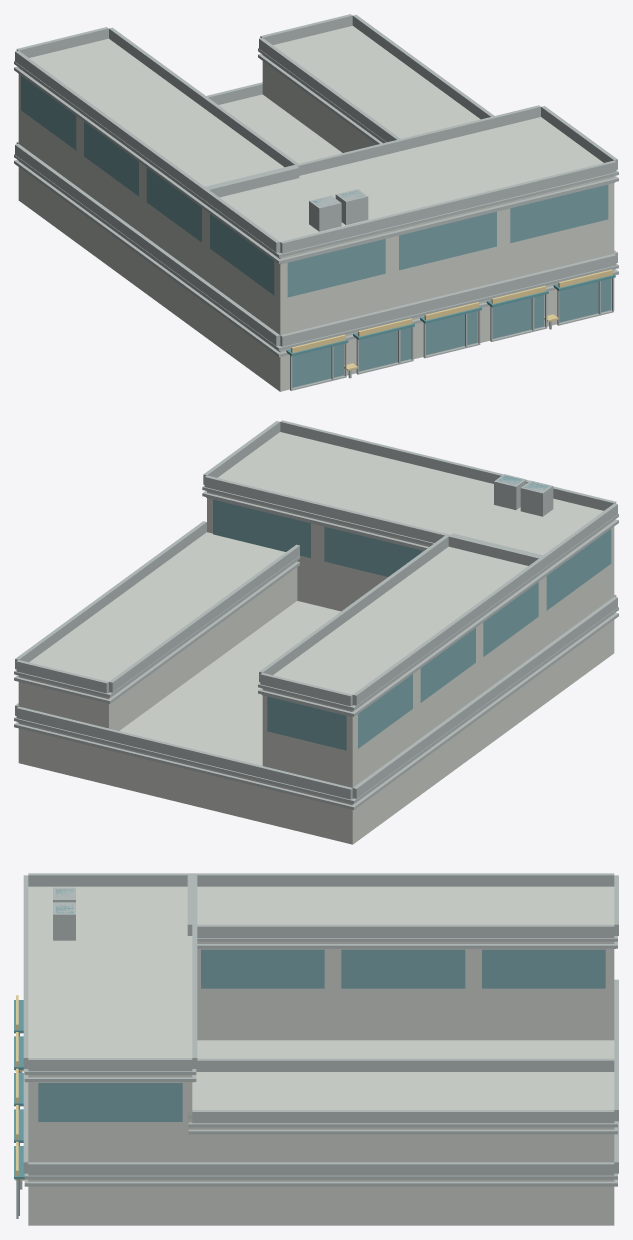
Rendered from commercial_3x4_court.glb.
3 renders of one model, top to bottom at view 1: azimuth 30°, elevation 25°; view 2: azimuth 150°, elevation 25°; view 3: azimuth 270°, elevation 25°, orthographic. The views are drawn at different scales.
Parts seen in each view (by area): view 1: commercial_3x4_court_0; view 2: commercial_3x4_court_0; view 3: commercial_3x4_court_0.
Boxes of the visible parts, x1=… form: commercial_3x4_court_0: x1=14, y1=14, x2=618, y2=391; commercial_3x4_court_0: x1=14, y1=420, x2=618, y2=844; commercial_3x4_court_0: x1=14, y1=873, x2=618, y2=1225.
Bounding box in the file's own units: 23 × 10.5 × 31.5.
